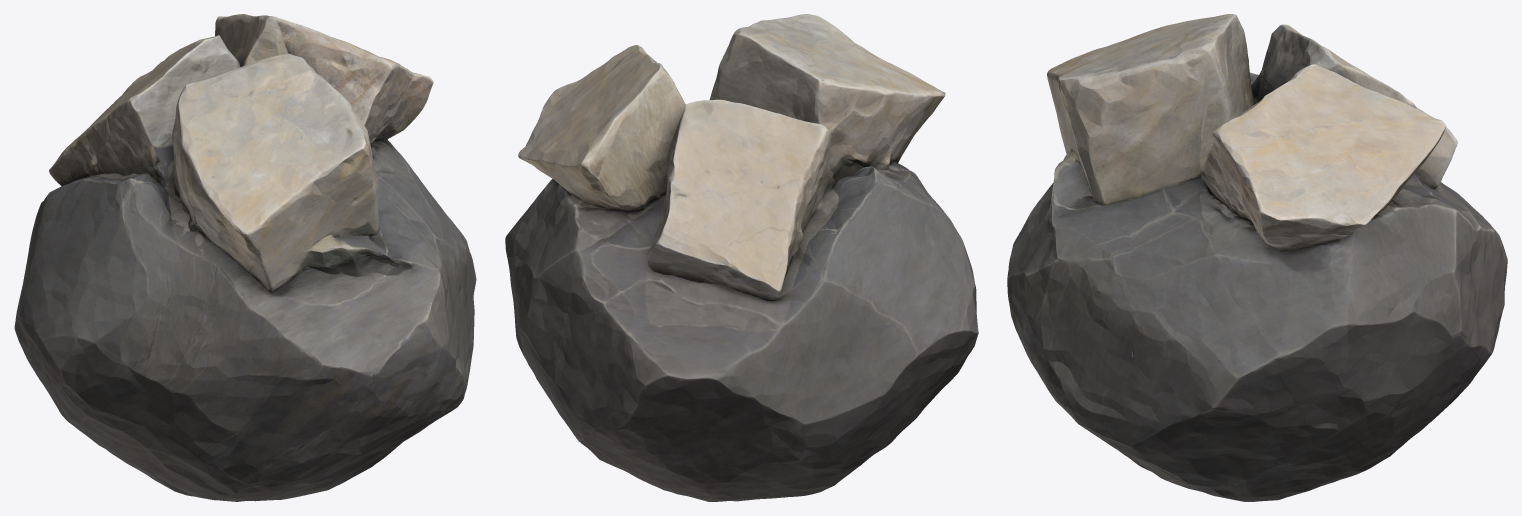
File: Iron ore.fbx
3 views of the same model, side by side, from view 1: azimuth 30°, elevation 25°; view 2: azimuth 150°, elevation 25°; view 3: azimuth 270°, elevation 25° (orthographic). The views are drawn at different scales.
Parts seen in each view (by area): view 1: temp; view 2: temp; view 3: temp.
Boxes of the visible parts, x1=… form: temp: x1=14, y1=14, x2=476, y2=501; temp: x1=505, y1=14, x2=978, y2=501; temp: x1=1007, y1=14, x2=1507, y2=501.
Size of the model in its own units: 199 by 193 by 200.
1 material, 1 textured.
